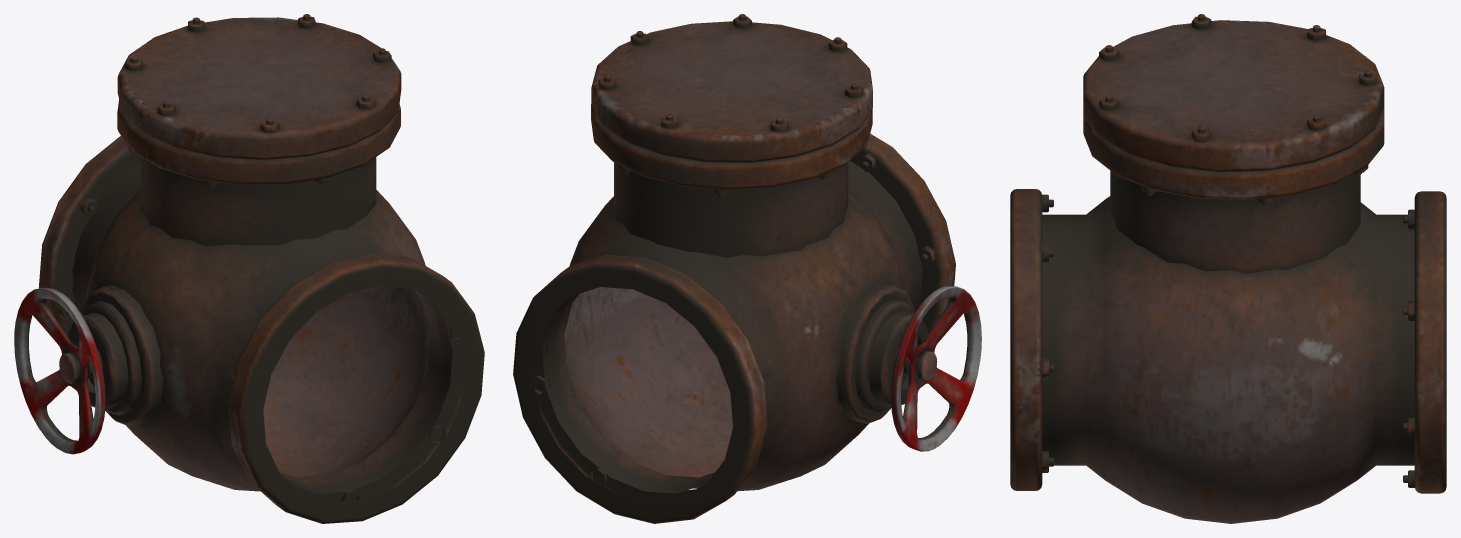
Rendered from sansaro.fbx.
The picture shows the model from 3 angles, left to right: view 1: azimuth 30°, elevation 25°; view 2: azimuth 150°, elevation 25°; view 3: azimuth 270°, elevation 25°; orthographic projection. The views are drawn at different scales.
Visible parts, largest first — view 1: 06_01_0; view 2: 06_01_0; view 3: 06_01_0.
Part boxes in pixels (<box>): 06_01_0: <box>14,14,484,523</box>; 06_01_0: <box>513,14,981,523</box>; 06_01_0: <box>1010,14,1446,523</box>.
Size of the model in its own units: 69.81 by 76.72 by 69.49.
1 material, 1 textured.
